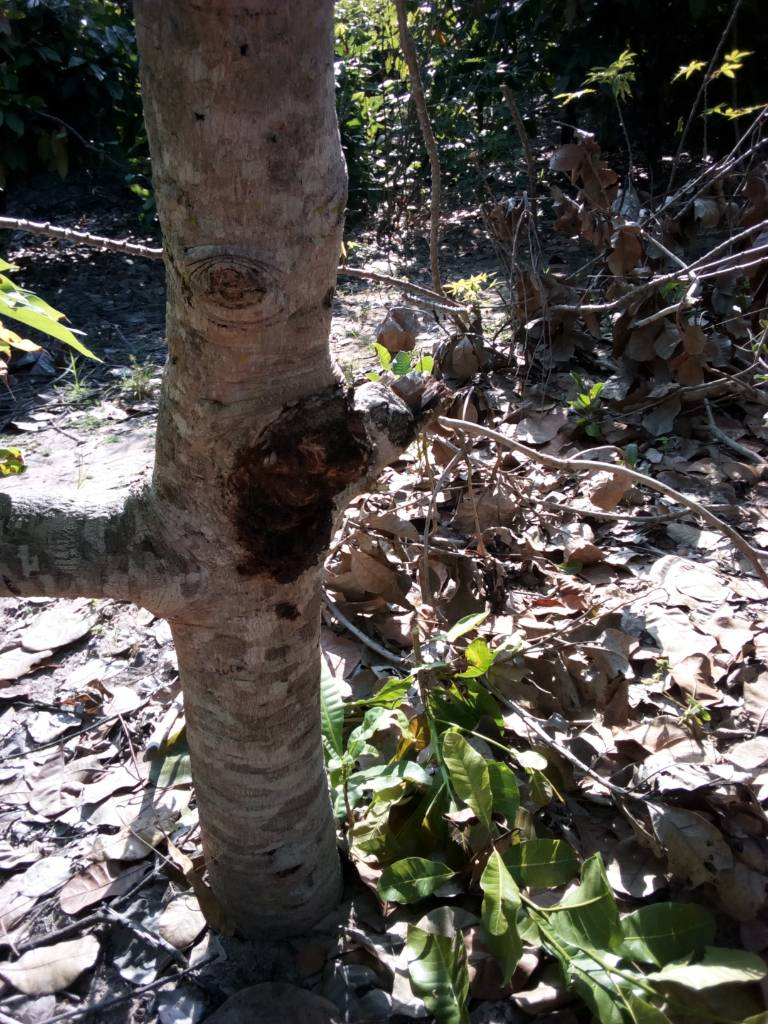ploceadorus ferrugineus: (174, 367, 444, 631)
